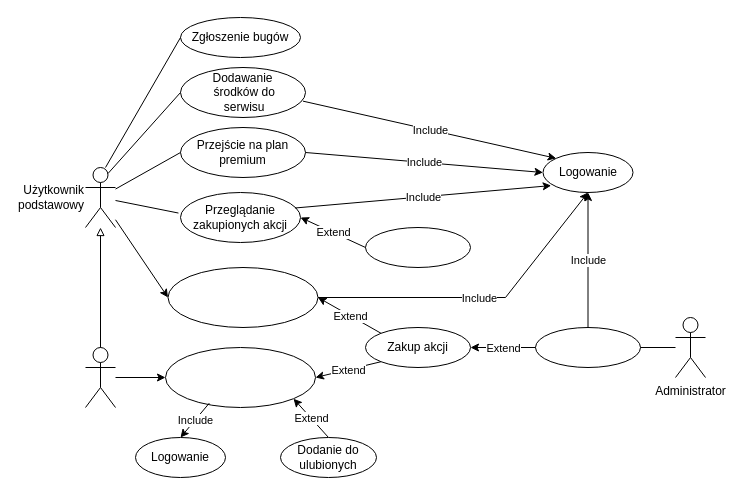
Image size: 743x495. Some labels were removed from this diagram. The centre of each missing label's shape, as x and y in pixels:
Korekta zakupu: the point at 587,347
Przeglądanie wartości akcji w serwisie: the point at 242,297
Przeglądanie wartości akcji z dłuższego okresu czasu: the point at 240,377
Sprzedaż akcji: the point at 417,247
Użytkownik premium: the point at 100,377
